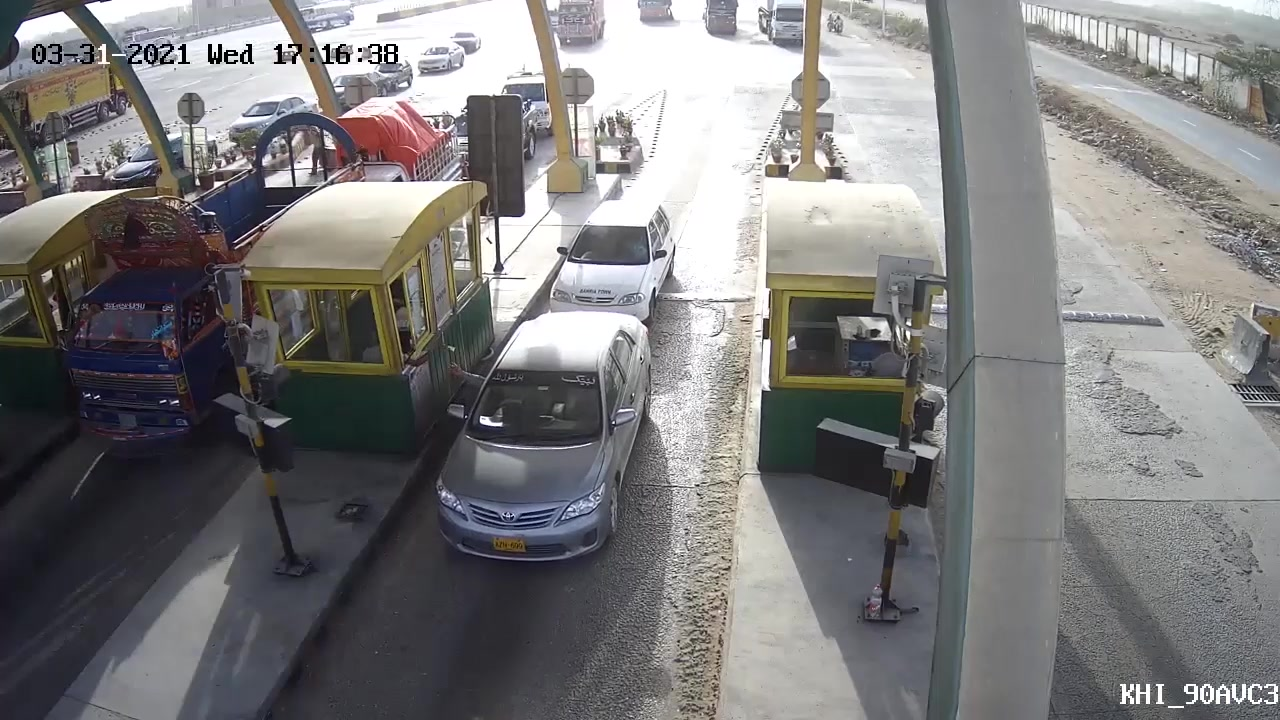F1: (418, 311, 655, 579), (544, 188, 676, 318)
